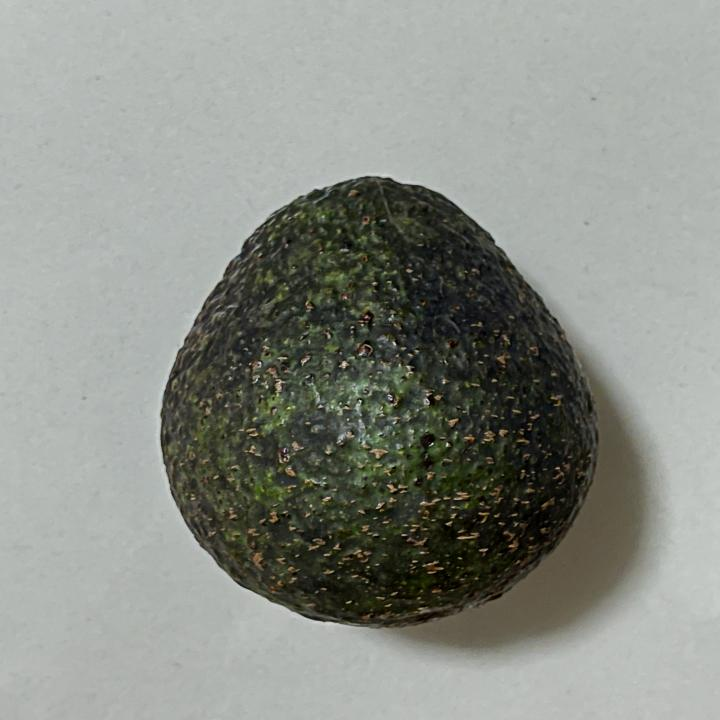Level1: (135, 161, 615, 642)
